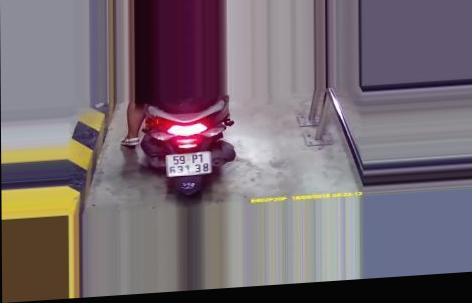License_Plate: (162, 148, 215, 180)
